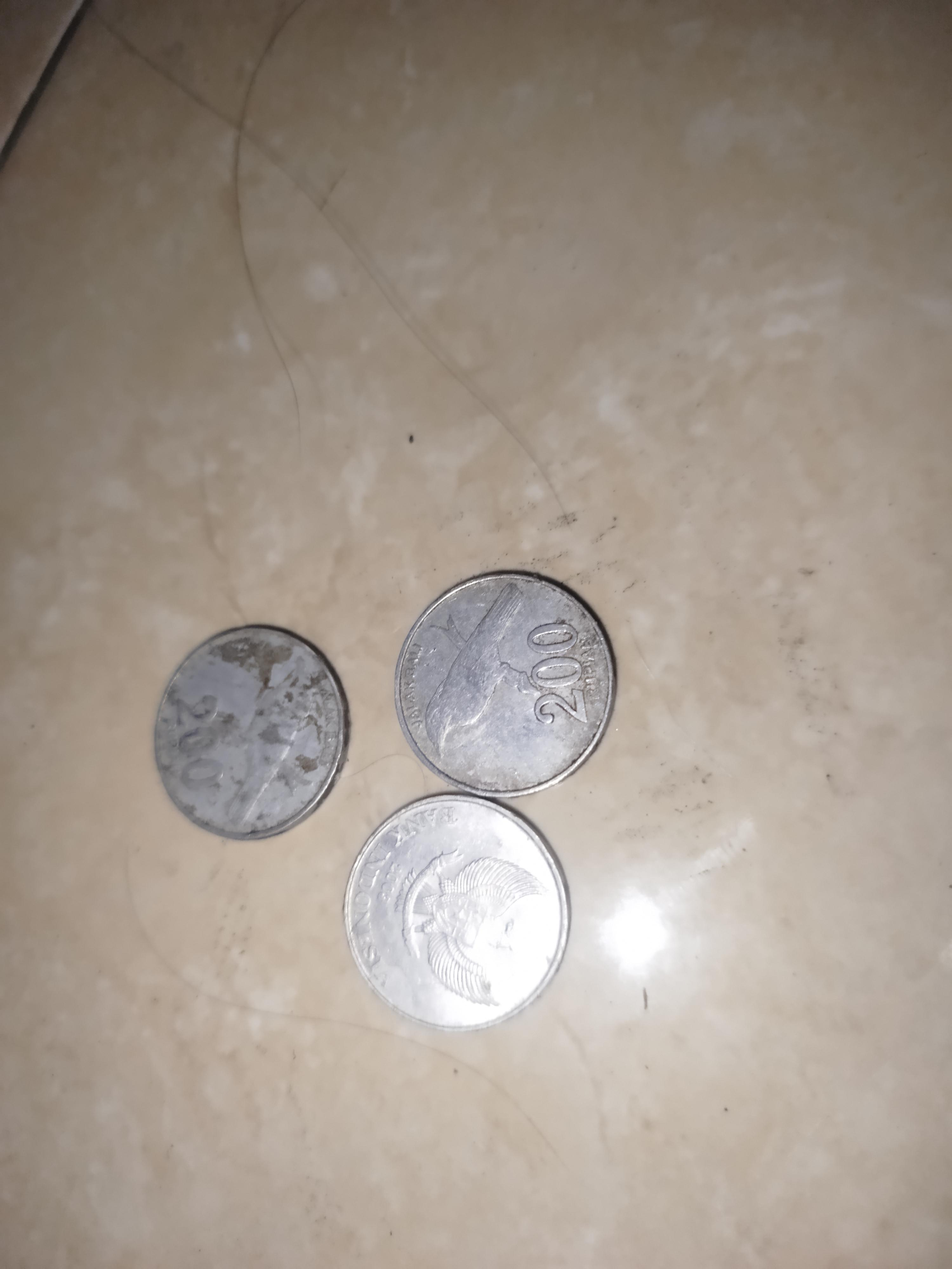coin_200_e2003: (398, 571, 618, 801)
